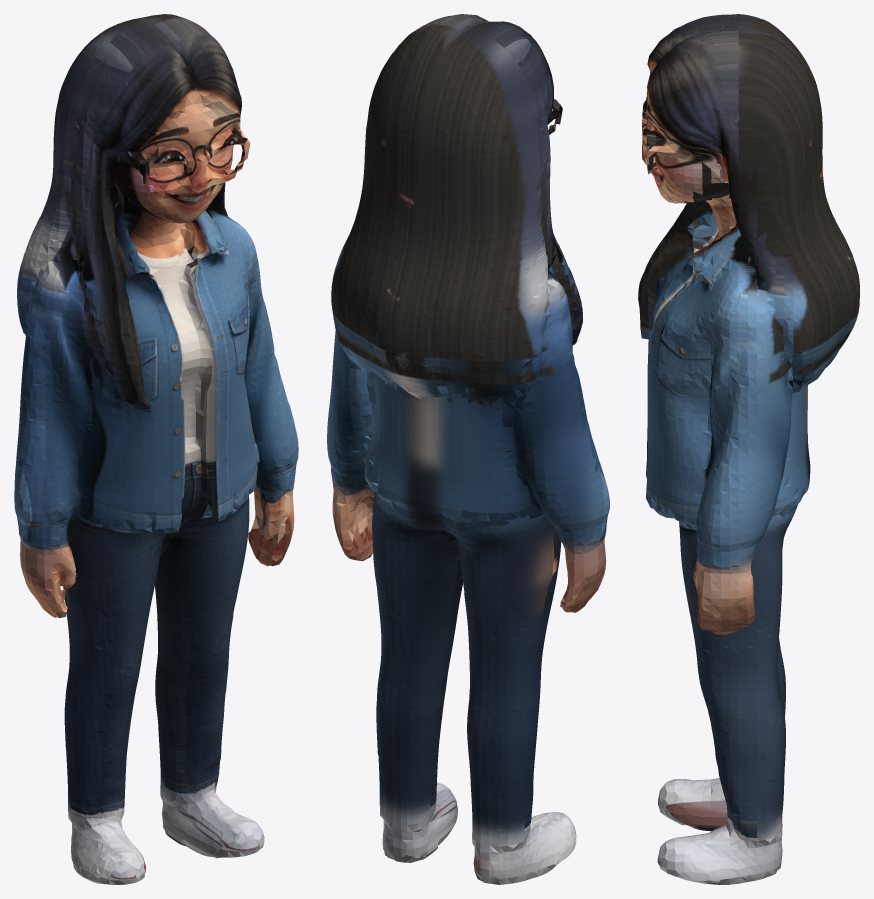
File: wawa.glb
3 views of the same model, side by side, from view 1: azimuth 30°, elevation 25°; view 2: azimuth 150°, elevation 25°; view 3: azimuth 270°, elevation 25° (orthographic).
Visible parts, largest first — view 1: geometry_0; view 2: geometry_0; view 3: geometry_0.
Boxes of the visible parts, box(x1,y1,x2,y2) form: geometry_0: box(14, 14, 298, 884); geometry_0: box(327, 14, 609, 884); geometry_0: box(638, 14, 859, 884).
Bounding box in the file's own units: 0.3467 × 1 × 0.2448.
Materials: 1 (1 with a texture image).
